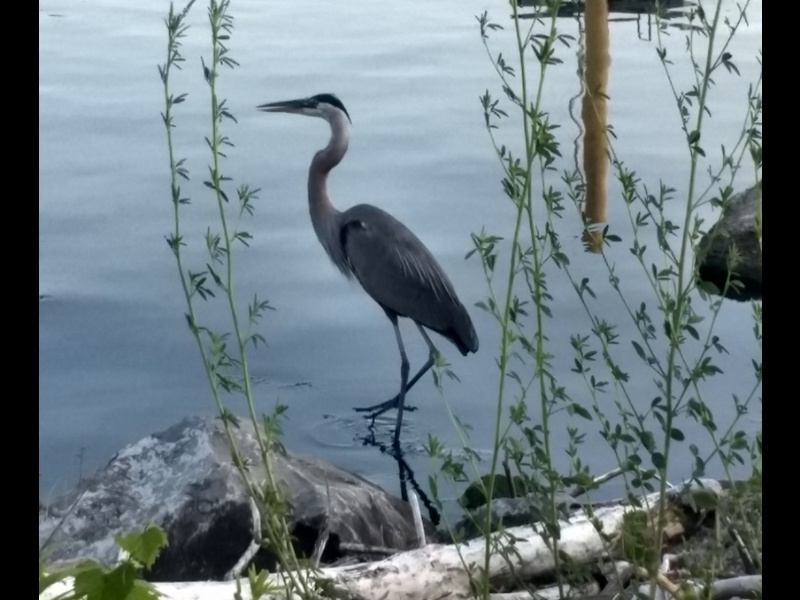heron: (254, 87, 482, 435)
